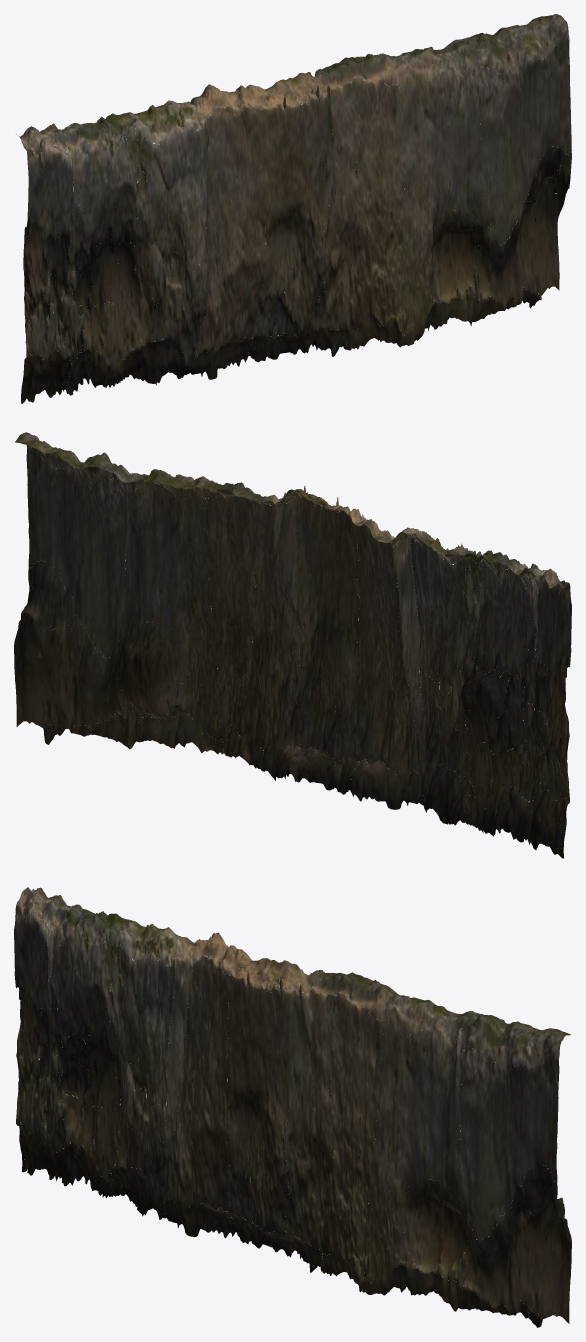
File: env_rock_cliff.glb
3 views of the same model, one above another, from view 1: azimuth 30°, elevation 25°; view 2: azimuth 150°, elevation 25°; view 3: azimuth 330°, elevation 25° (orthographic). The views are drawn at different scales.
Visible parts, largest first — view 1: ENV_Frostheim_RockCliff; view 2: ENV_Frostheim_RockCliff; view 3: ENV_Frostheim_RockCliff.
Boxes of the visible parts, bbox=[...] form: ENV_Frostheim_RockCliff: bbox=[16, 14, 571, 403]; ENV_Frostheim_RockCliff: bbox=[14, 432, 571, 858]; ENV_Frostheim_RockCliff: bbox=[14, 887, 571, 1327].
Size of what is drawn, in the model's own units: 9 by 4.8 by 1.07.
1 material, 1 textured.
